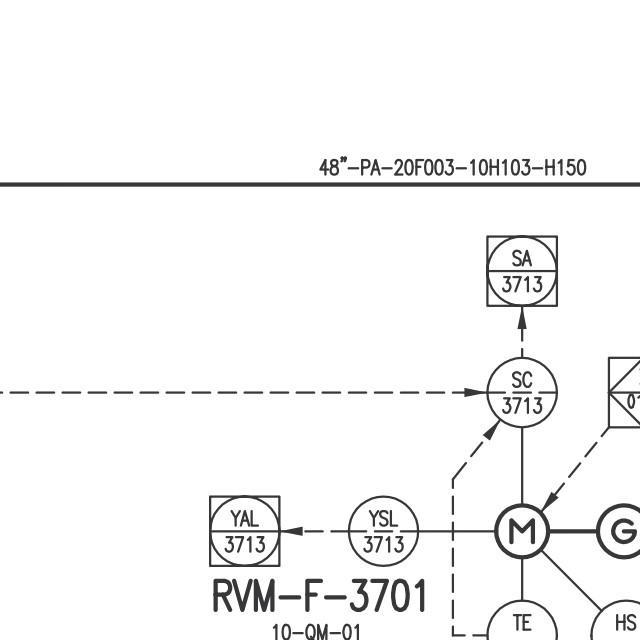M: (489, 496, 553, 564)
